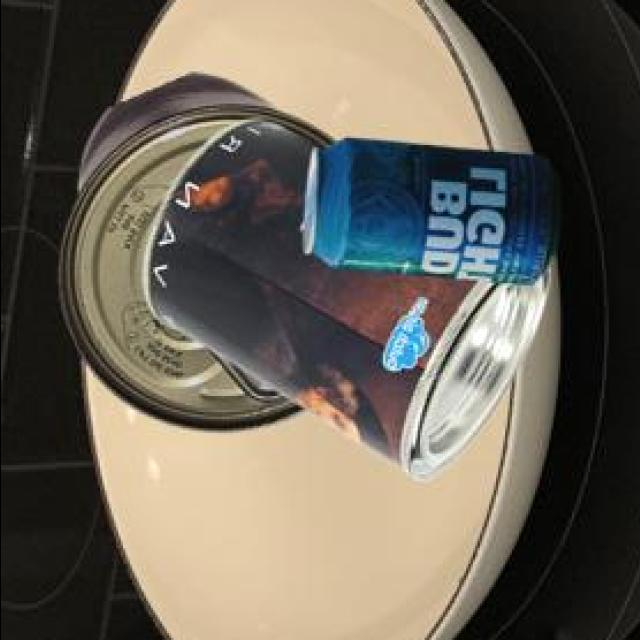logam: (139, 116, 544, 478), (54, 68, 330, 427), (296, 135, 556, 282)
